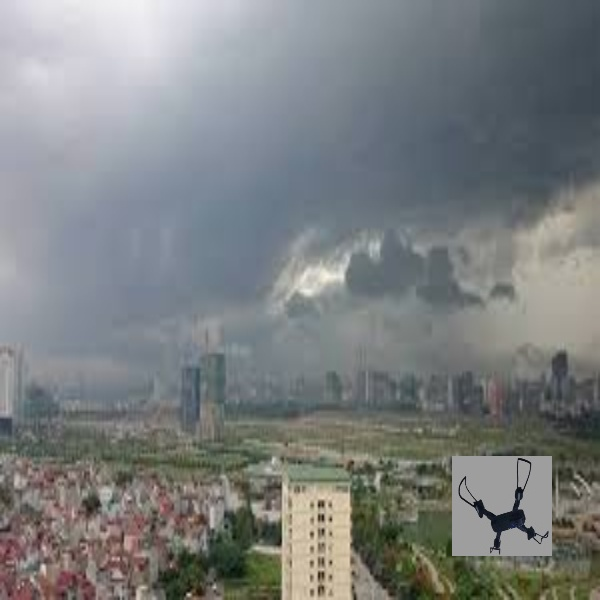drone: (456, 455, 553, 557)
